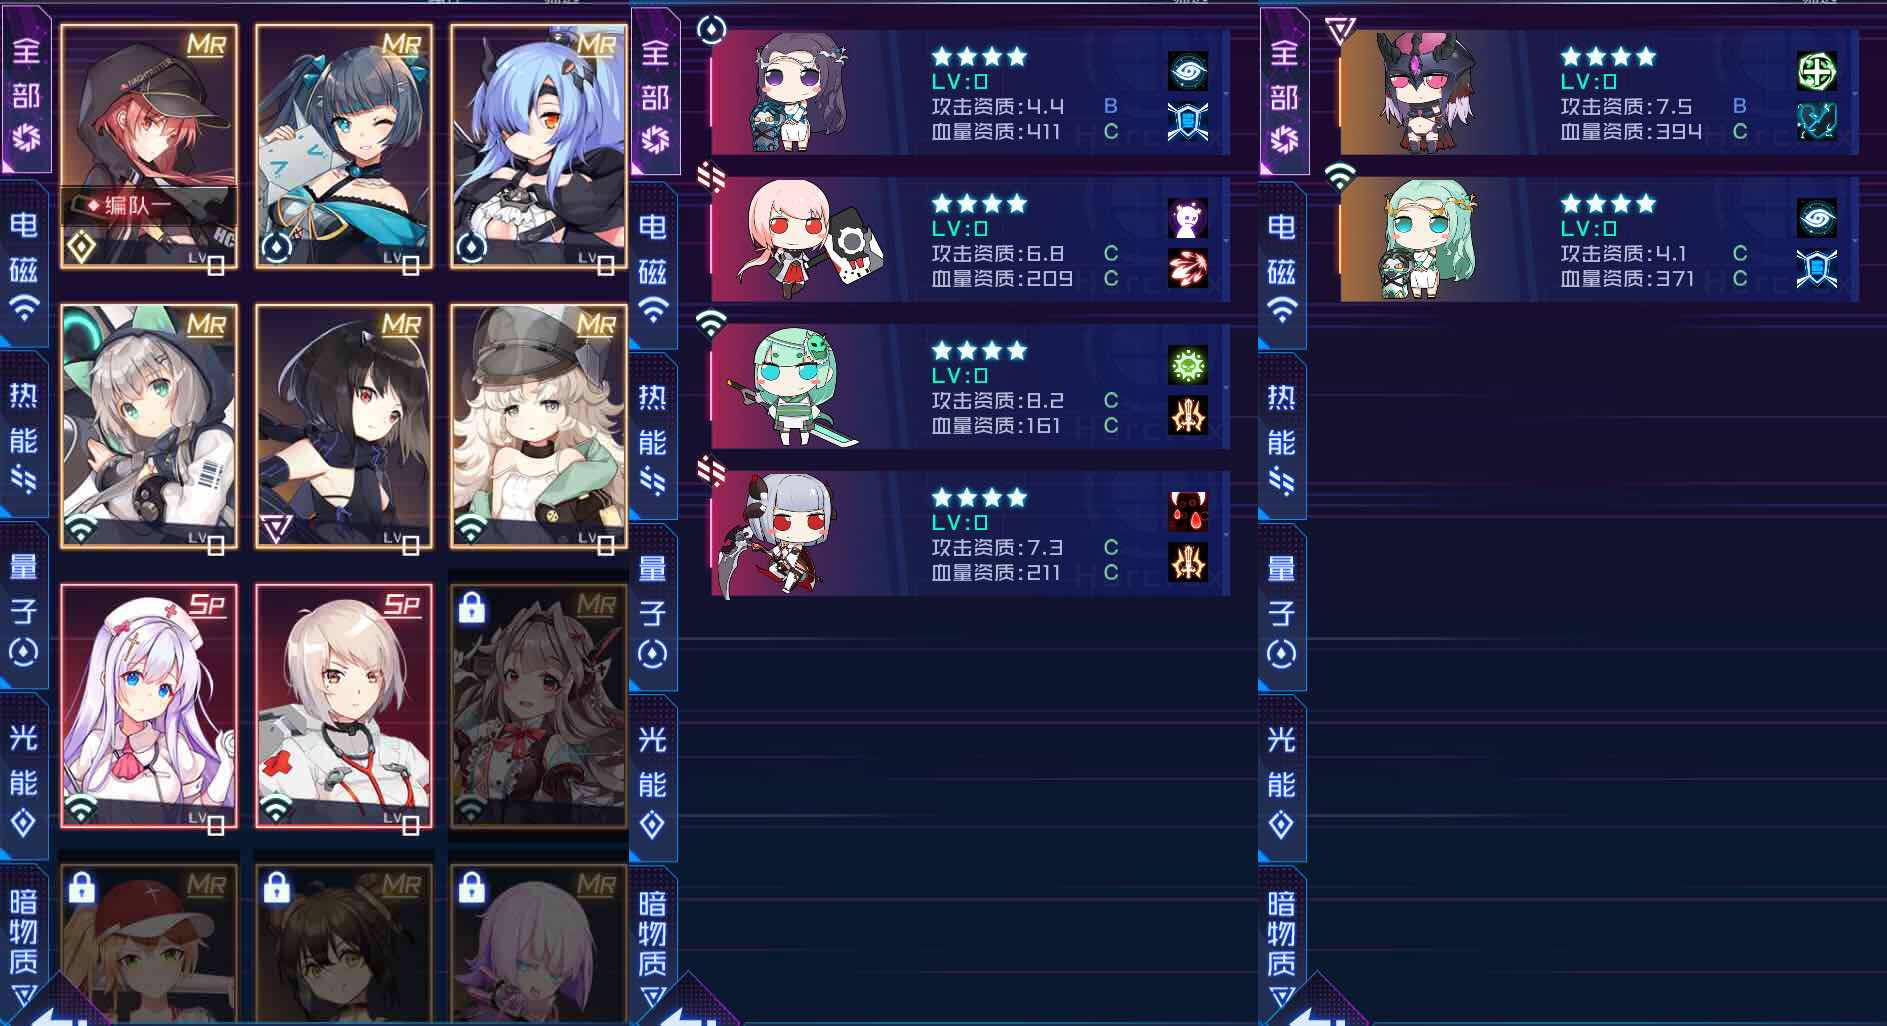sp天使奶: (53, 575, 243, 756)
sp天使盾: (248, 575, 438, 756)
